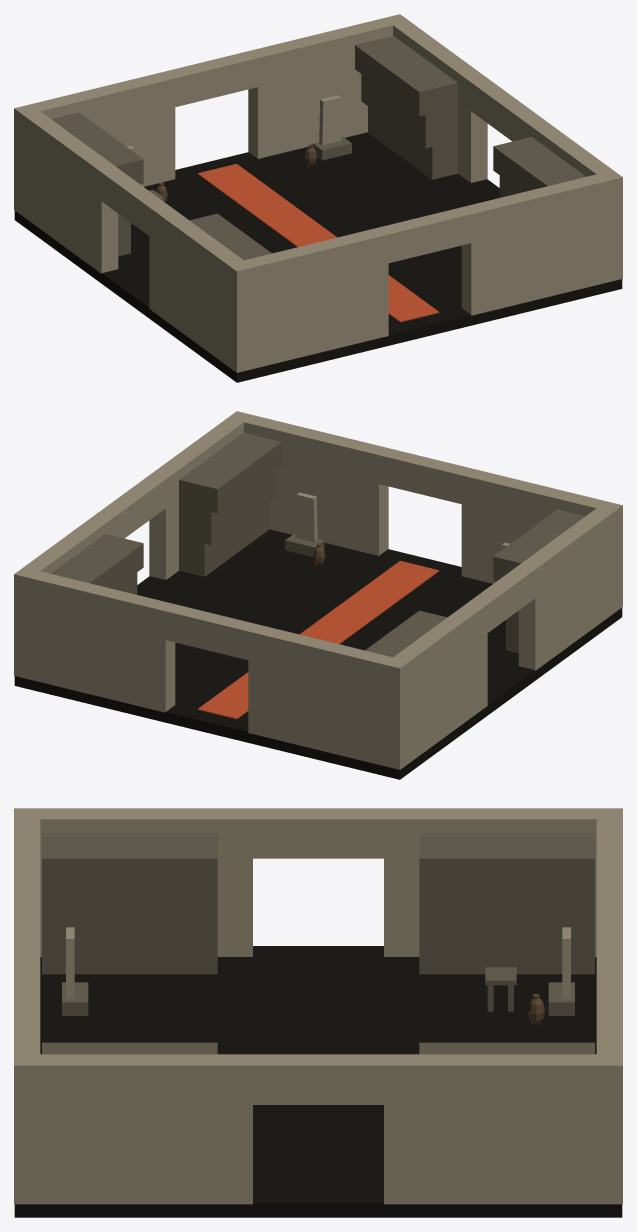
File: BronzeDromos.fbx
The picture shows the model from 3 angles, top to bottom: view 1: azimuth 30°, elevation 25°; view 2: azimuth 150°, elevation 25°; view 3: azimuth 270°, elevation 25°; orthographic projection. The views are drawn at different scales.
Visible parts, largest first — view 1: BronzeDromos; view 2: BronzeDromos; view 3: BronzeDromos.
Boxes of the visible parts, x1,y1,x2,y2 form: BronzeDromos: (14,14,622,382); BronzeDromos: (14,411,622,779); BronzeDromos: (14,808,622,1217).
Bounding box in the file's own units: 1202 × 332 × 1202.
5 materials, 5 textured.
